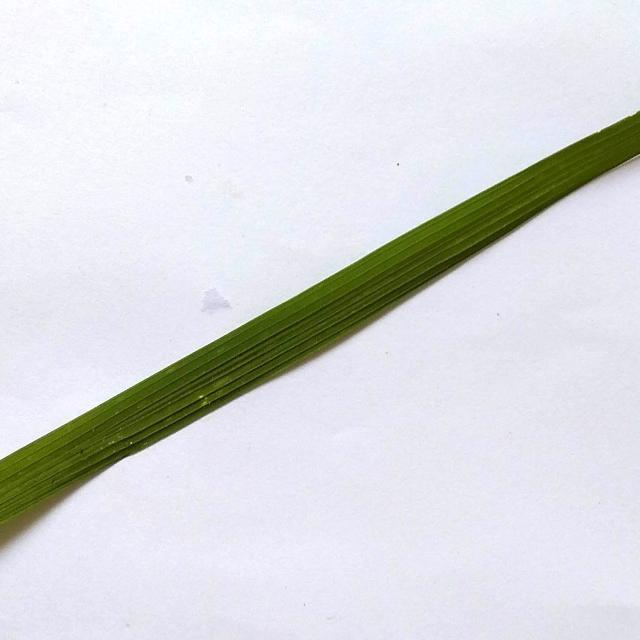Rice_Healthy: (0, 111, 640, 525)
